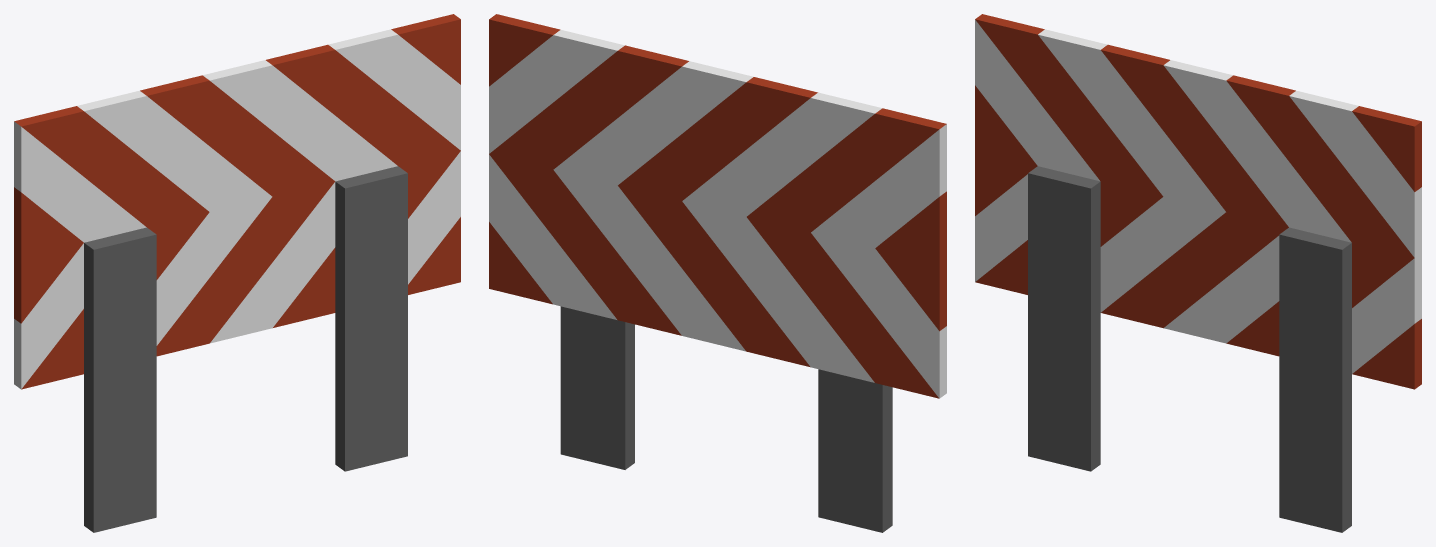
File: ArrowsLeft.fbx
The picture shows the model from 3 angles, left to right: view 1: azimuth 30°, elevation 25°; view 2: azimuth 150°, elevation 25°; view 3: azimuth 330°, elevation 25°; orthographic projection. The views are drawn at different scales.
Parts seen in each view (by area): view 1: arrowsLeft.135; view 2: arrowsLeft.135; view 3: arrowsLeft.135.
Boxes of the visible parts, x1,y1,x2,y2 form: arrowsLeft.135: (14,14,460,532); arrowsLeft.135: (489,14,946,532); arrowsLeft.135: (975,14,1421,532).
Bounding box in the file's own units: 350 × 315 × 23.37.
Materials: 1 (1 with a texture image).
